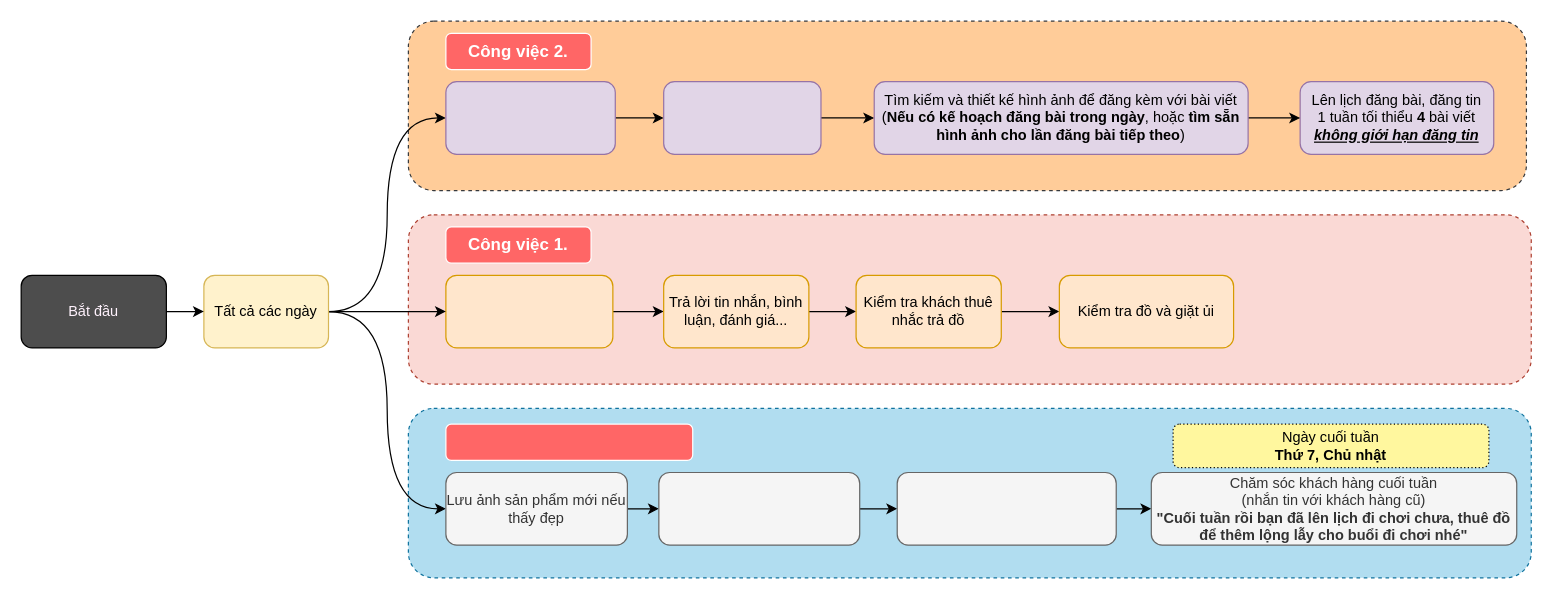
Some shapes in this 1552 by 599 pixel diagram are drawn without their labels. Here are the shapes that lost their labels. From the top down, the centre of each, then its label:
At (530,117): "Lên kế hoạch hôm nay".
At (741,117): "Viết content (sử dụng Chat GPT) viết tối thiểu 1 bài".
At (529,311): "Kiểm tra Fanpage và Facebook cá nhân".
At (569,441): "Công việc 3. (khi nhàn rỗi)".
At (759,508): "Lướt xem đối thủ đang có chương trình gì hay không".
At (1006,508): "Đăng bài viết chia sẽ cách phối đồ trên Website Blog".
